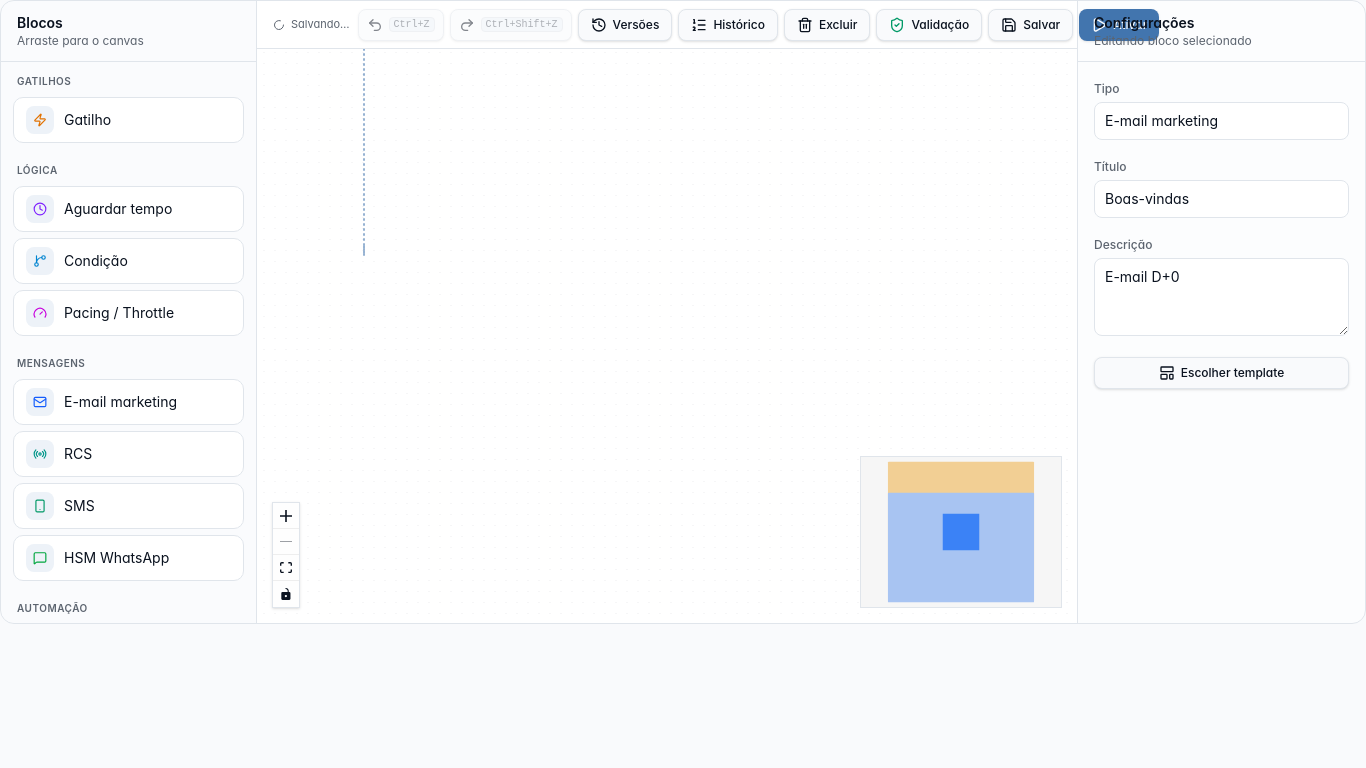
Scenario: JourneyCanvas seleção › clicar no fundo do canvas (pane) desmarca a seleção
Earlier steps of the test are not shown.
Expected: the text "Editando bloco selecionado" is shown, [1094,33,1252,48]
Click the element with class "react-flow__pane".
click(667, 336)  # box [257,49,1077,623]
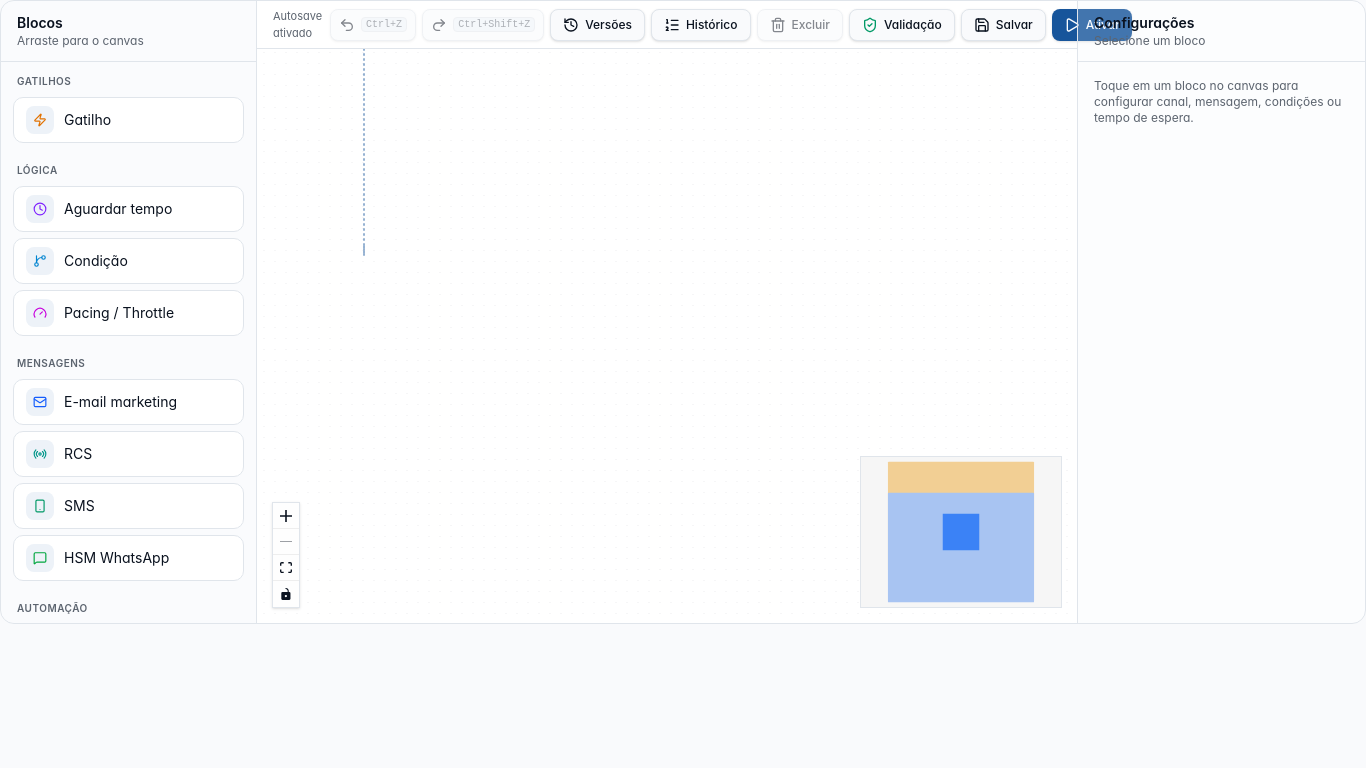
Expected: the text "Selecione um bloco" is shown, [1094,33,1206,48]
